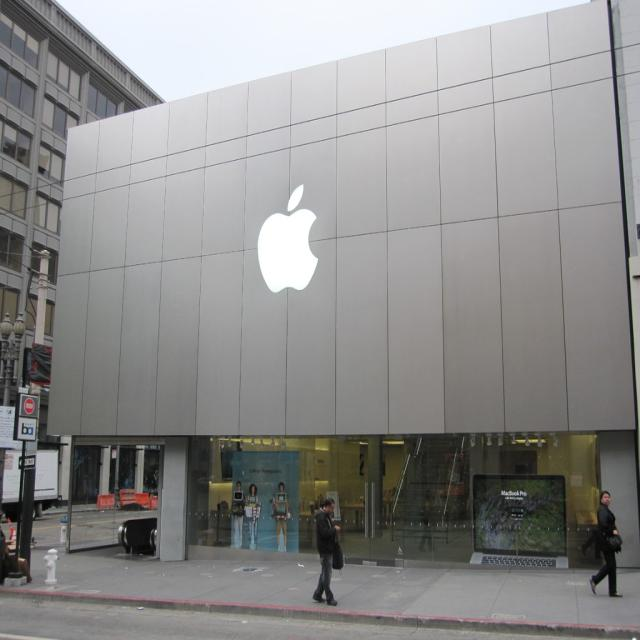Healty Apple: (256, 182, 319, 292)
